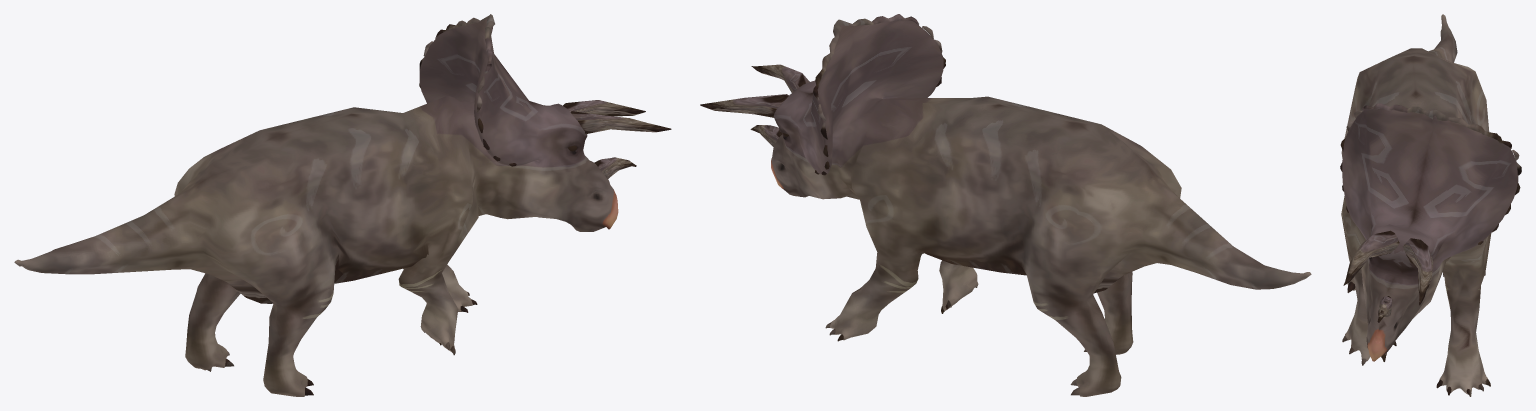
Rendered from dino5.glb.
3 renders of one model, left to right at view 1: azimuth 30°, elevation 25°; view 2: azimuth 150°, elevation 25°; view 3: azimuth 270°, elevation 25°, orthographic.
Parts seen in each view (by area): view 1: BodyTri; view 2: BodyTri; view 3: BodyTri.
Part boxes in pixels (x1,y1,x2,y2): BodyTri: [14, 14, 671, 396]; BodyTri: [700, 14, 1311, 396]; BodyTri: [1340, 14, 1521, 396].
Size of the model in its own units: 7.81 by 3.56 by 2.01.
1 material, 1 textured.
